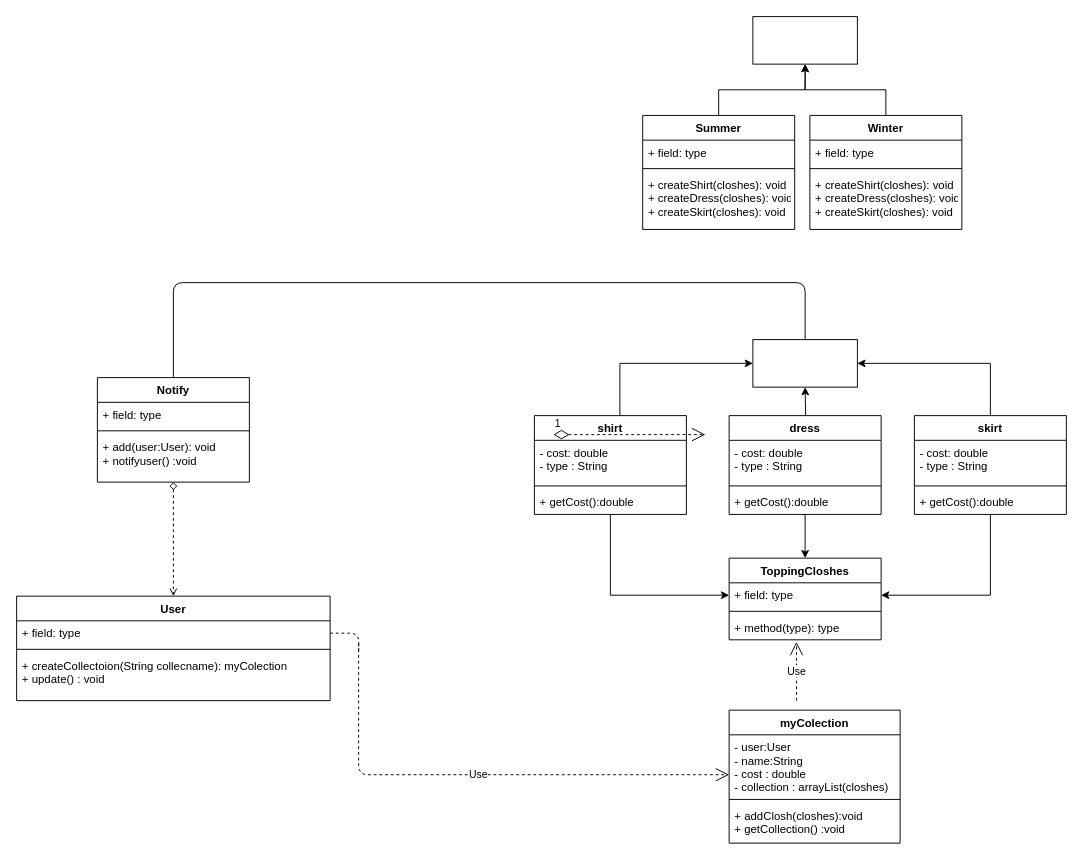
This 1083x863 diagram has some shape labels left out. The centre of each missing label's shape, as x and y in pixels:
«interface» closhes: the point at 804,363
«interface» Collection: the point at 804,40
